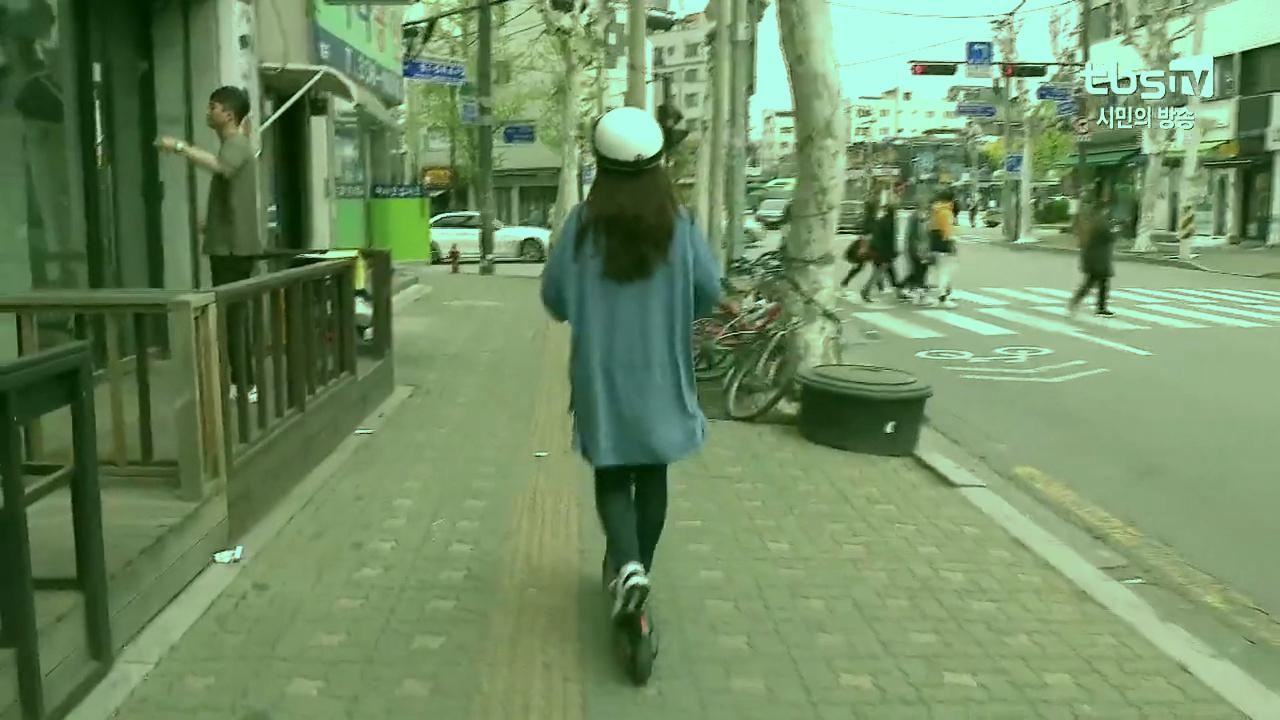helmet: (540, 104, 724, 692)
